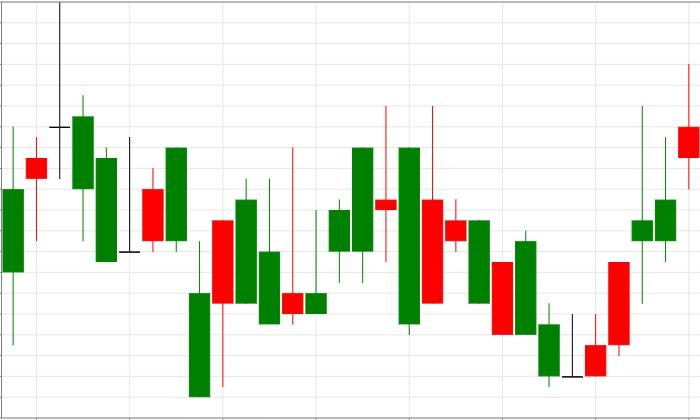inverse_hammer_rise: (235, 147, 328, 325)
morning_star_rise: (375, 105, 607, 387)
